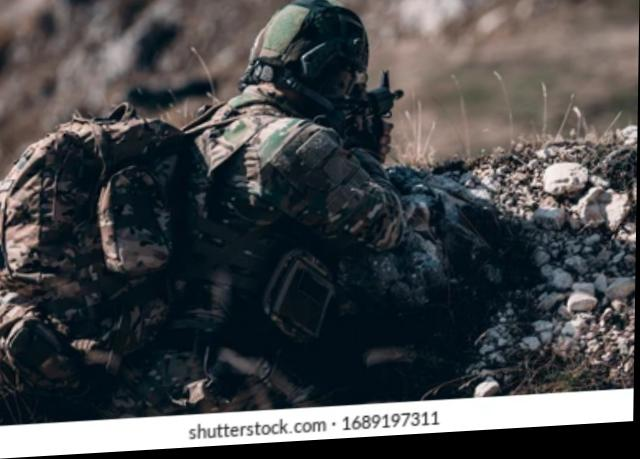other: (122, 5, 395, 416)
